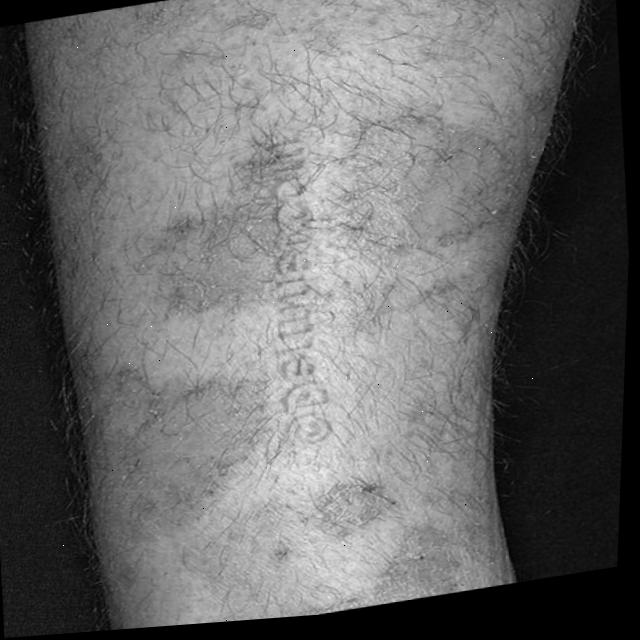Eczema: (62, 95, 555, 634)
